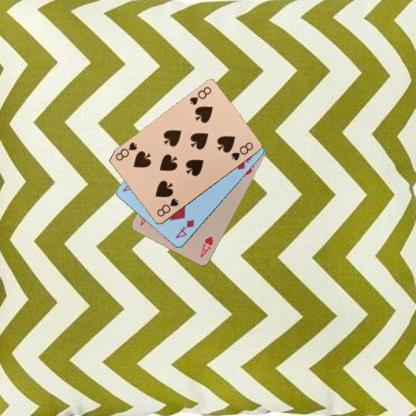4d: (173, 217, 196, 240)
8s: (187, 84, 213, 107), (154, 196, 180, 218)
Ah: (198, 234, 214, 259)
